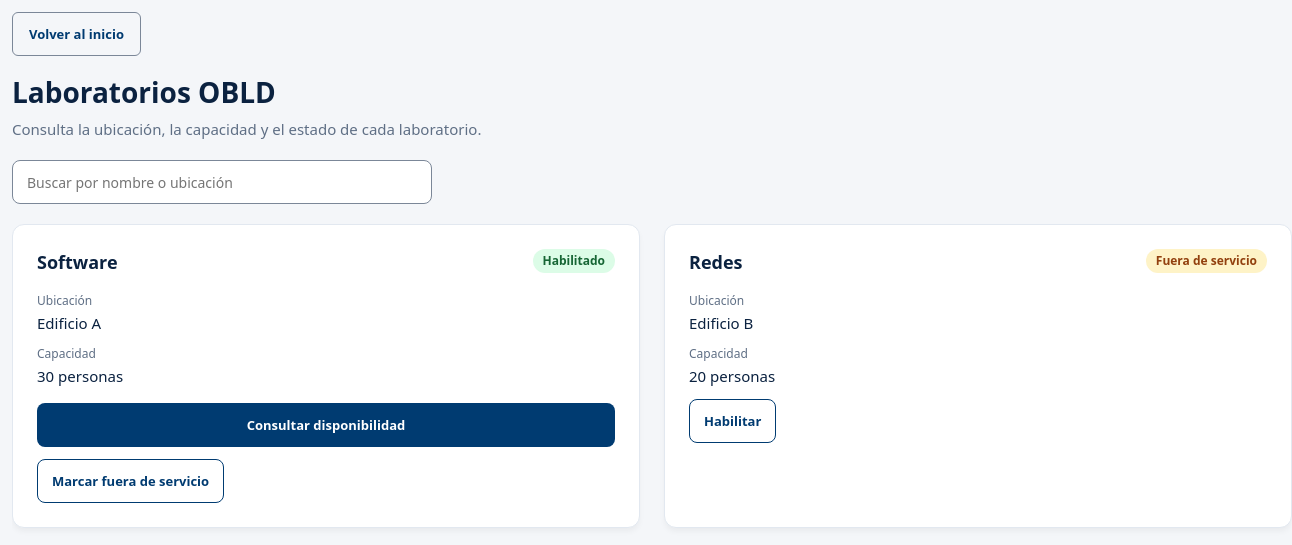
Test case: al marcar un laboratorio fuera de servicio se actualiza la tarjeta y se confirma el cambio (AB#112)
The width and height of the screenshot is (1292, 545).
Click the button with aria-label "Marcar fuera de servicio: Software": [131, 481] box left=37, top=459, right=224, bottom=503
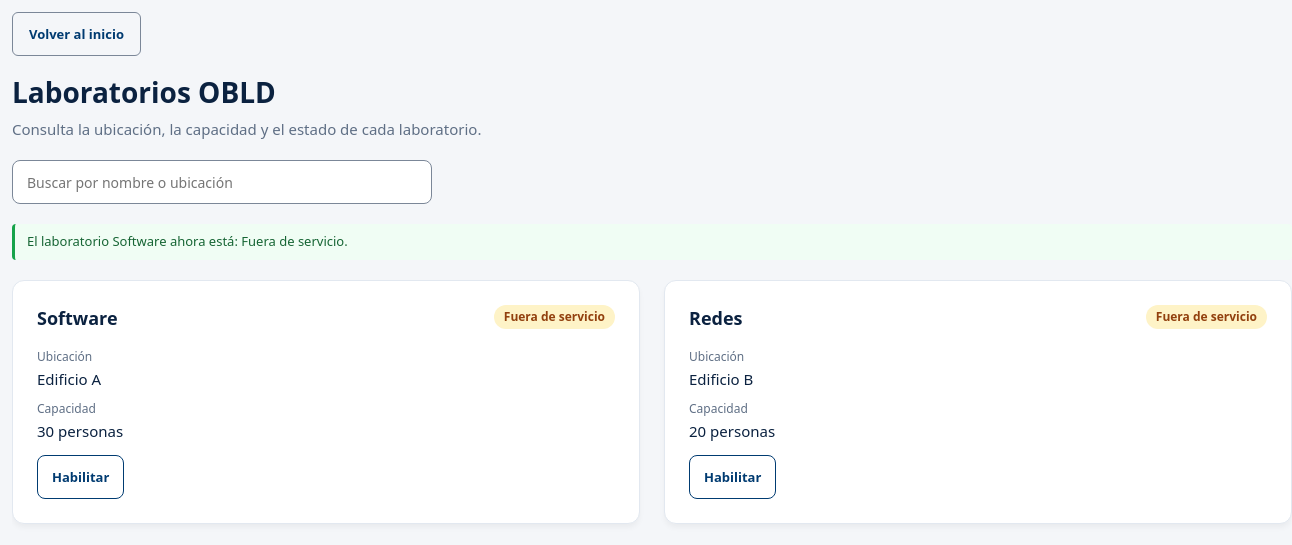
Expected: the message shows "Software", left=27, top=232, right=348, bottom=250
Expected: the 1st text "Fuera de servicio" is shown, left=494, top=305, right=615, bottom=329
Expected: the button "Consultar disponibilidad" is gone
